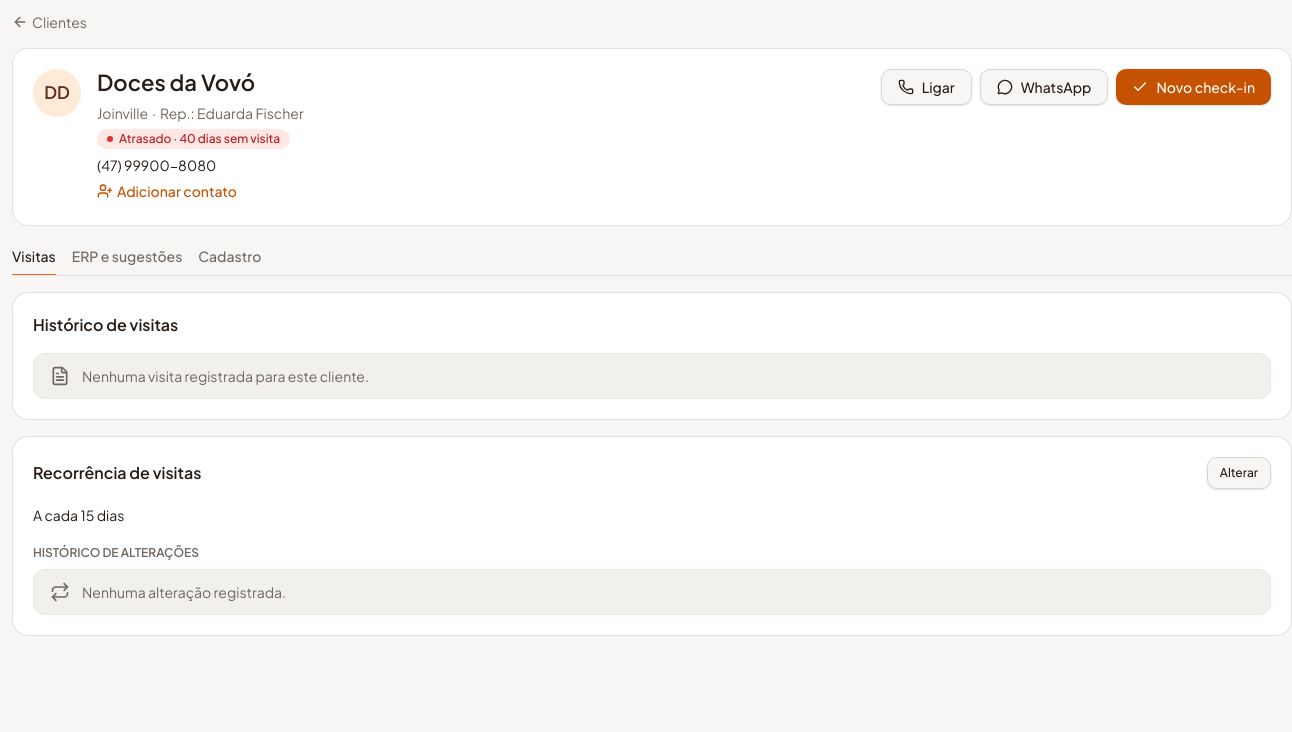
Scenario: ClienteDetalhePage › abas da ficha › "ERP e sugestões" abre a mensagem de estoque, os insights e os dados do ERP
Click the tab "ERP e sugestões" at [127, 258], box [72, 242, 182, 276]
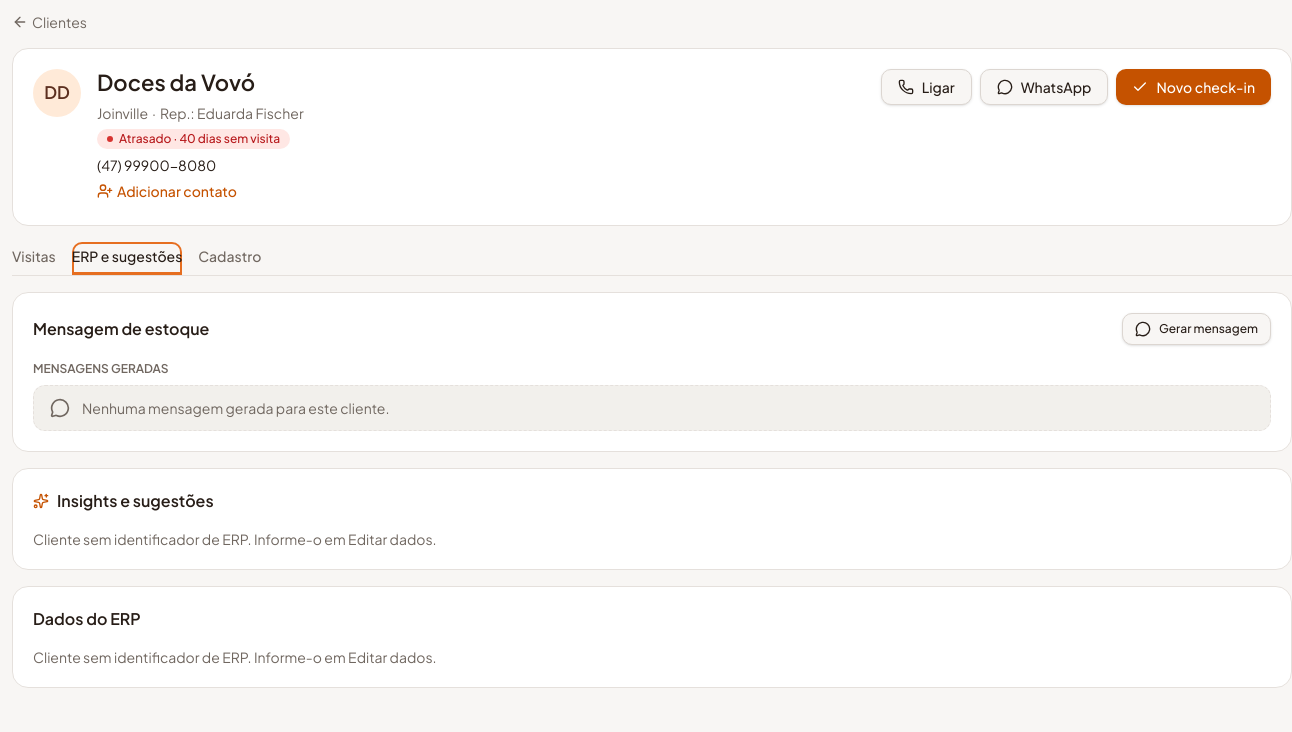
Result: the element "Mensagem de estoque" is shown at [12, 292, 1291, 452]
Result: the heading "Histórico de visitas" is gone
